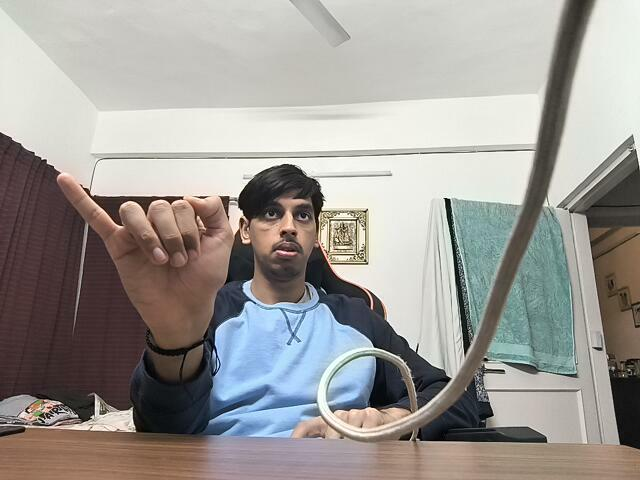RIGHT: (49, 156, 240, 328)
